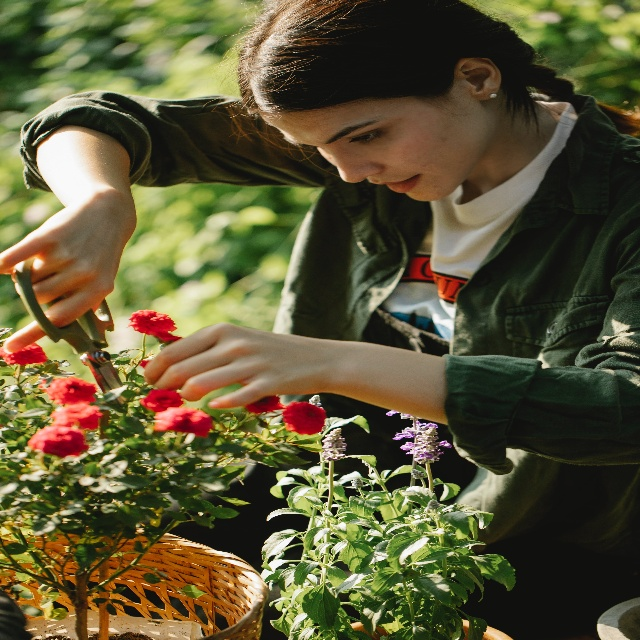Sin_guantes: (0, 191, 137, 354), (144, 321, 323, 409)
